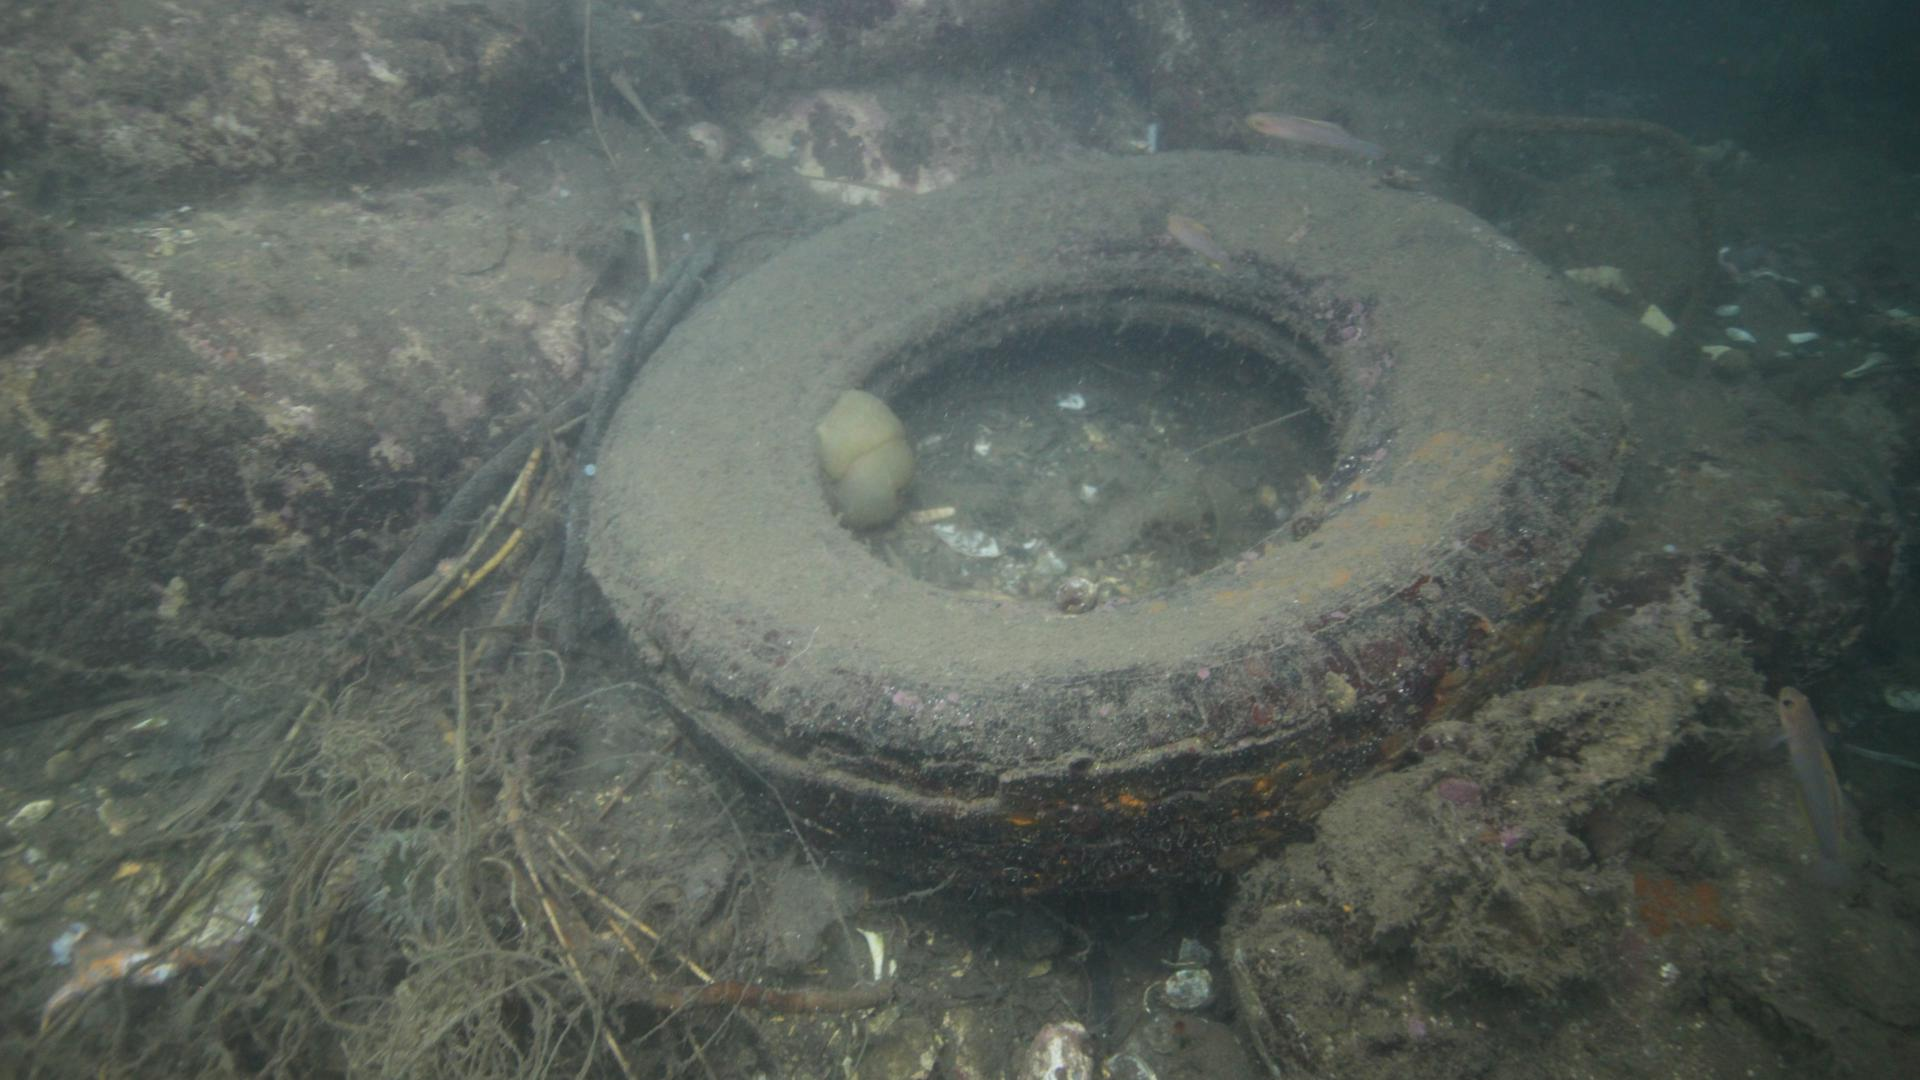tire: (583, 144, 1634, 895)
